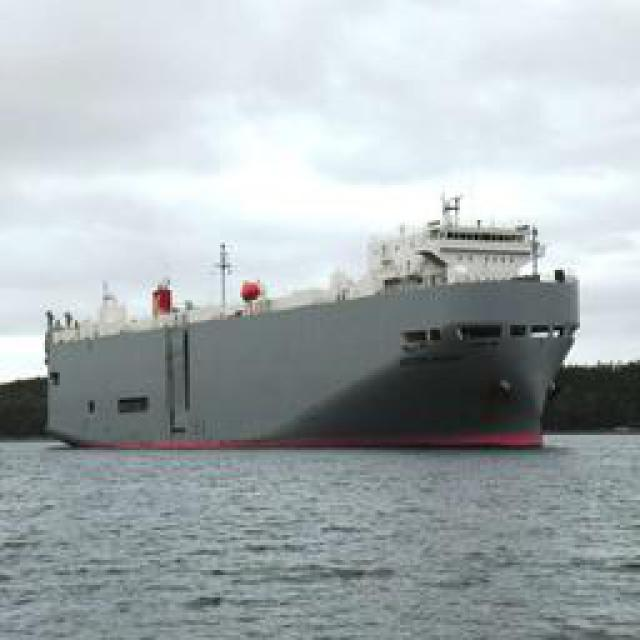Ship: (34, 256, 579, 451)
